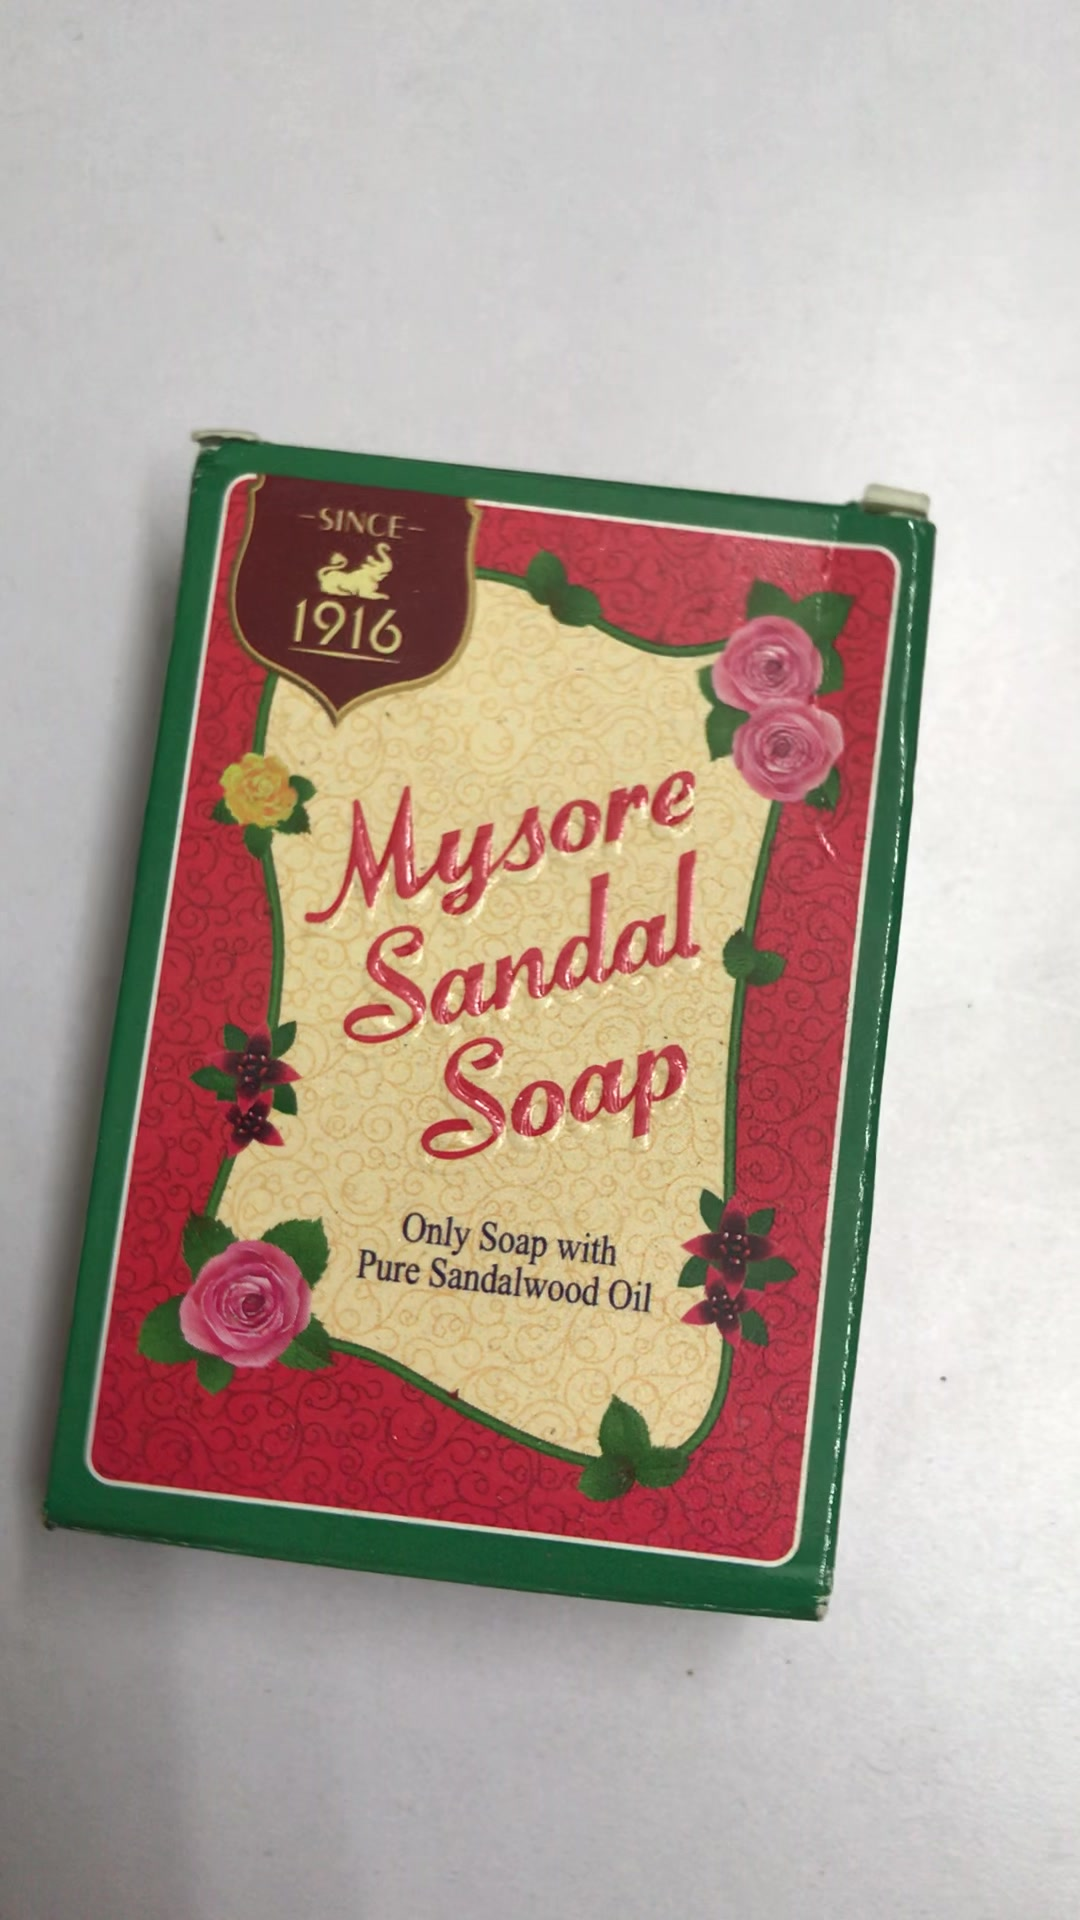mysore sandal soap: (44, 436, 934, 1625)
